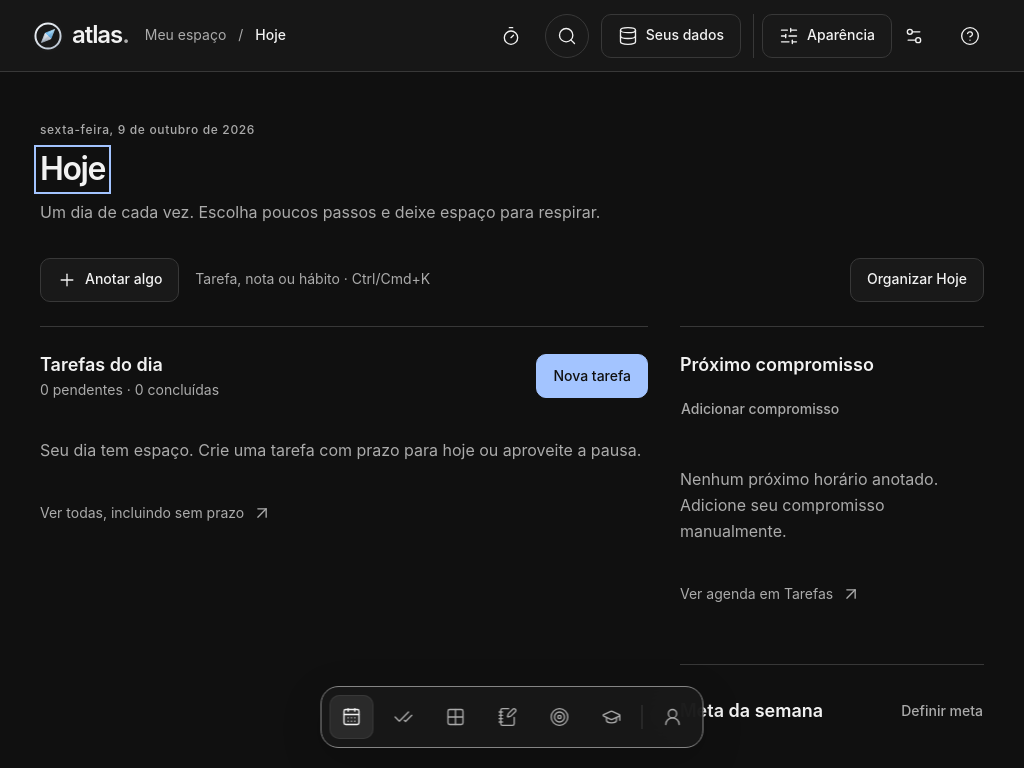
Test: mantém a sessão utilizável quando o armazenamento é bloqueado
Expected: the heading "Hoje" is shown, [40,151,105,188]
Click the button "Aparência" at (827, 36), box [762,14,892,58]
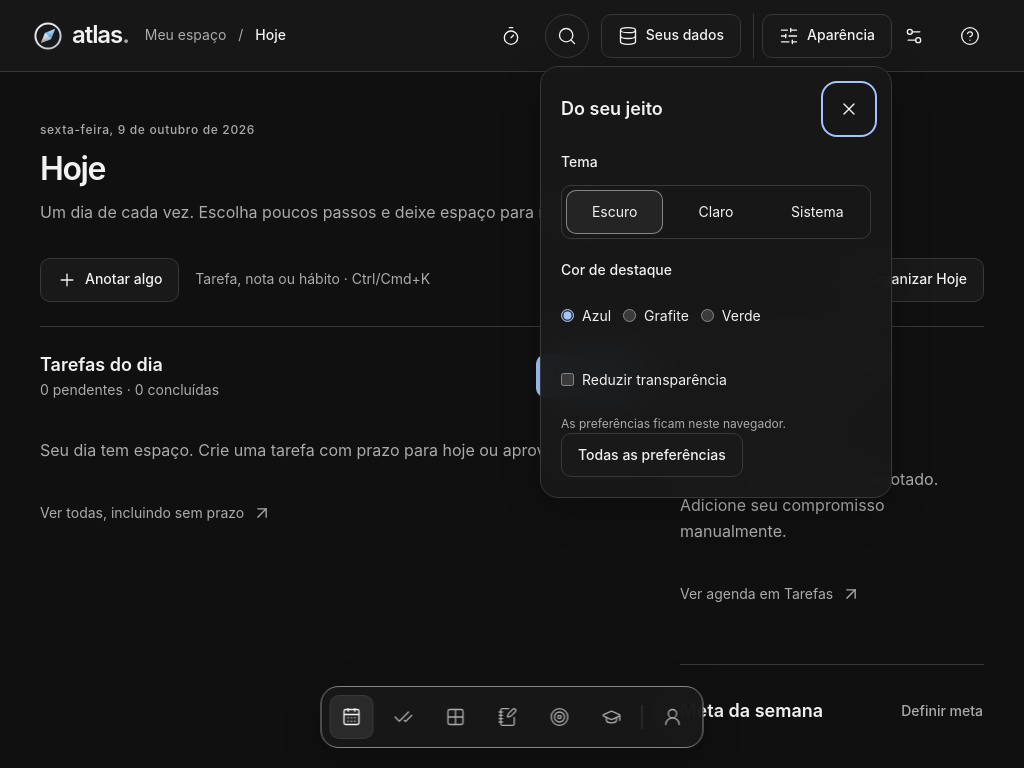
Click the radio button labelled "Claro" at (716, 212), box [698,203,733,220]
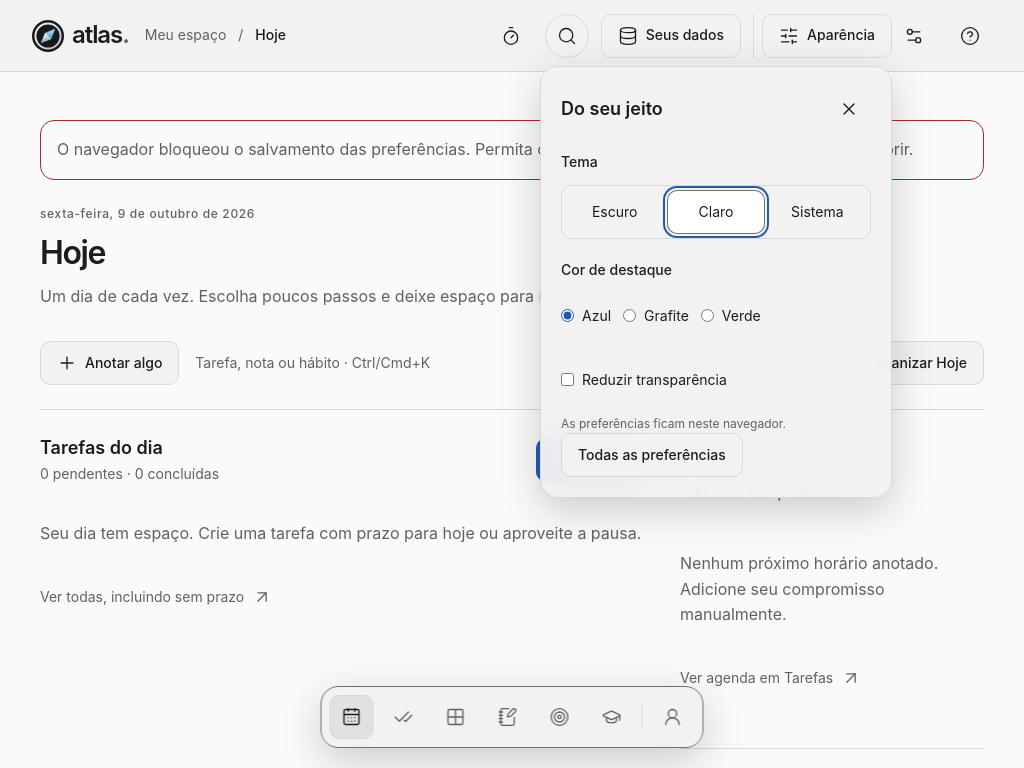
Now the text "O navegador bloqueou" is shown, box [57,139,913,159]
